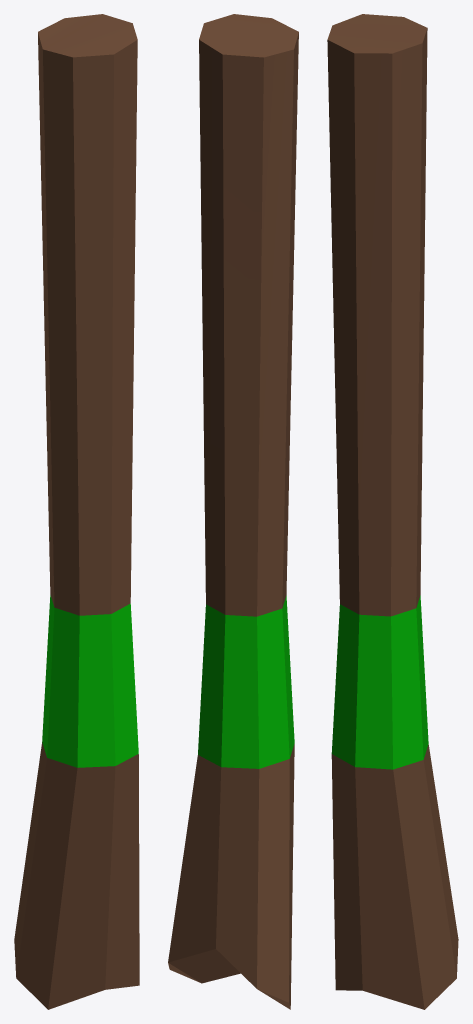
Rendered from spear_broken_part_3.glb.
The picture shows the model from 3 angles, left to right: view 1: azimuth 30°, elevation 25°; view 2: azimuth 150°, elevation 25°; view 3: azimuth 330°, elevation 25°; orthographic projection.
Parts seen in each view (by area): view 1: Spear_part_3; view 2: Spear_part_3; view 3: Spear_part_3.
Part boxes in pixels (x1,y1,x2,y2): Spear_part_3: (14, 14, 139, 1009); Spear_part_3: (168, 14, 298, 1009); Spear_part_3: (327, 14, 458, 1009).
Bounding box in the file's own units: 0.2801 × 2.15 × 0.233.
